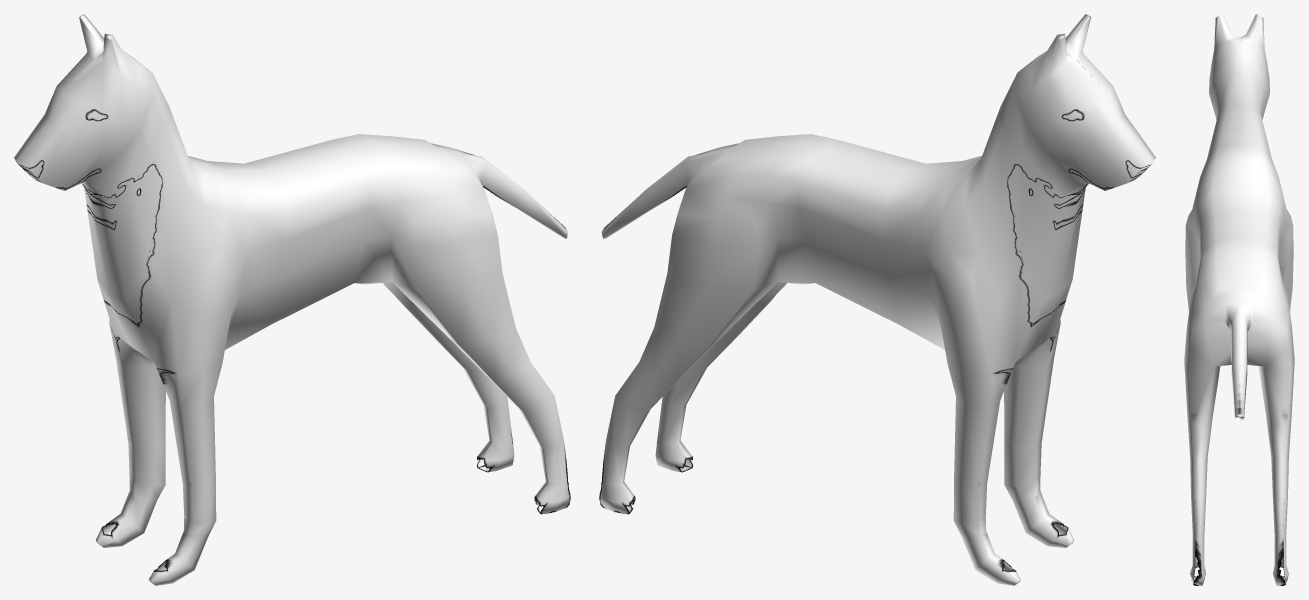
File: klb_ar.fbx
The picture shows the model from 3 angles, left to right: view 1: azimuth 30°, elevation 25°; view 2: azimuth 150°, elevation 25°; view 3: azimuth 270°, elevation 25°; orthographic projection. The views are drawn at different scales.
Parts seen in each view (by area): view 1: Cube2; view 2: Cube2; view 3: Cube2.
Part boxes in pixels (x1,y1,x2,y2): Cube2: [14, 14, 570, 585]; Cube2: [599, 14, 1155, 585]; Cube2: [1184, 14, 1294, 585].
Size of the model in its own units: 7.94 by 7.84 by 1.9.
1 material, 1 textured.
